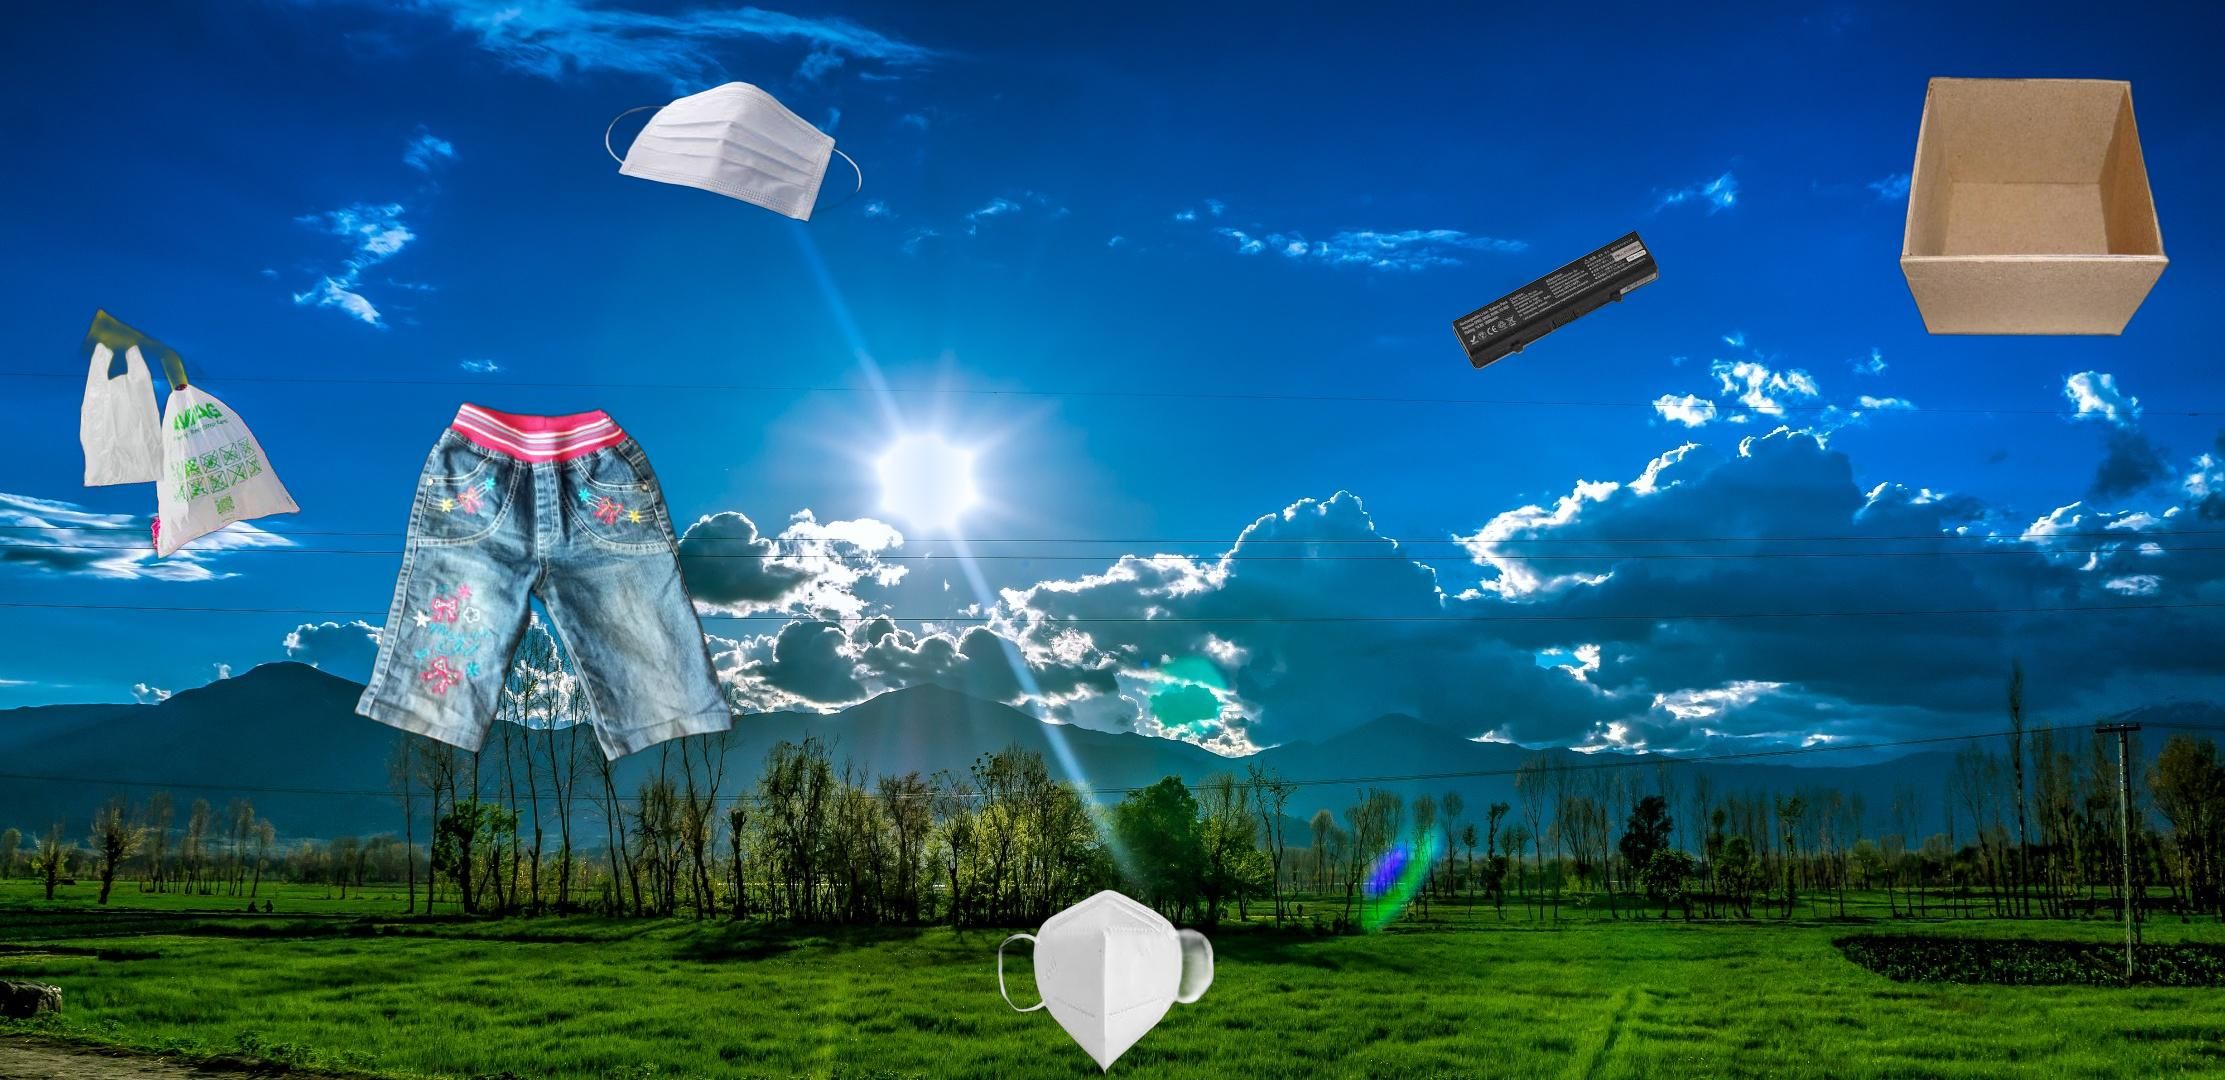battery: (1449, 228, 1662, 372)
clothes: (350, 399, 738, 766)
plastic-bag: (60, 302, 302, 563)
trash: (993, 887, 1218, 1077), (602, 75, 866, 228)
trashbox-cardboard: (1894, 72, 2172, 339)
